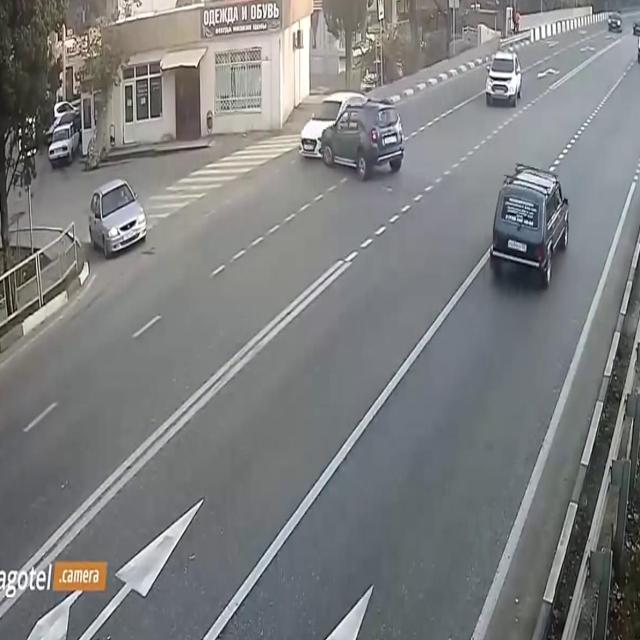accident: (297, 78, 407, 186)
